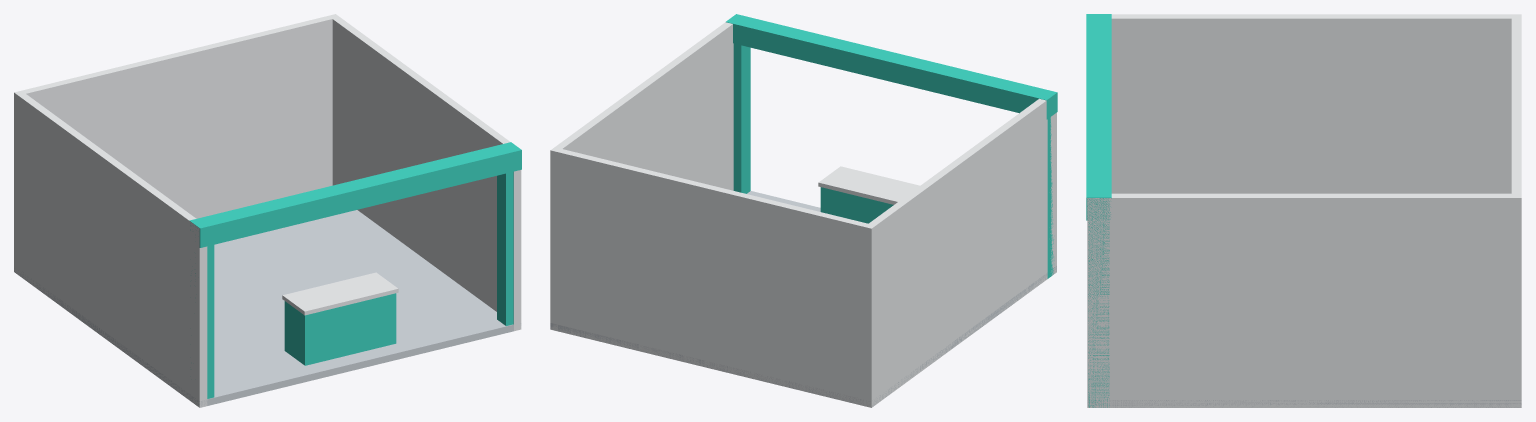
3 renders of one model, left to right at view 1: azimuth 30°, elevation 25°; view 2: azimuth 150°, elevation 25°; view 3: azimuth 270°, elevation 25°, orthographic. The views are drawn at different scales.
Parts seen in each view (by area): view 1: Exhibition Booth Concept; view 2: Exhibition Booth Concept; view 3: Exhibition Booth Concept.
Part boxes in pixels (<box>): Exhibition Booth Concept: <box>14,14,521,407</box>; Exhibition Booth Concept: <box>550,14,1057,407</box>; Exhibition Booth Concept: <box>1086,14,1521,407</box>.
Bounding box in the file's own units: 6 × 3.2 × 6.02.
